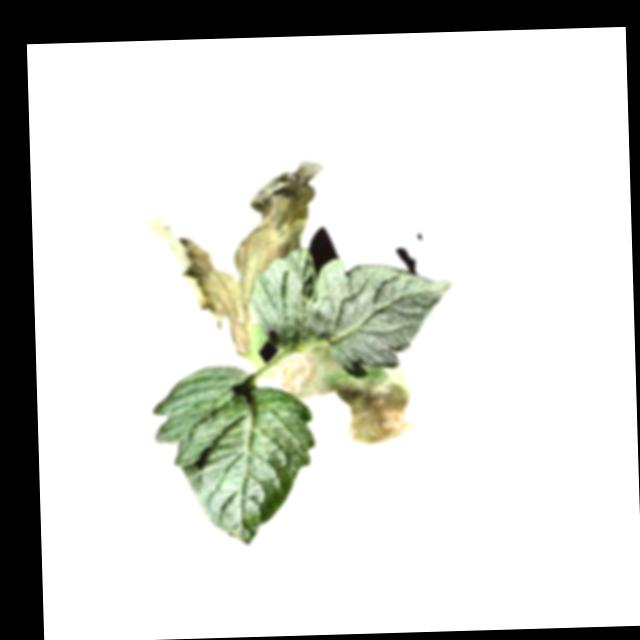Late_blight: (143, 158, 331, 364), (272, 341, 418, 448)
